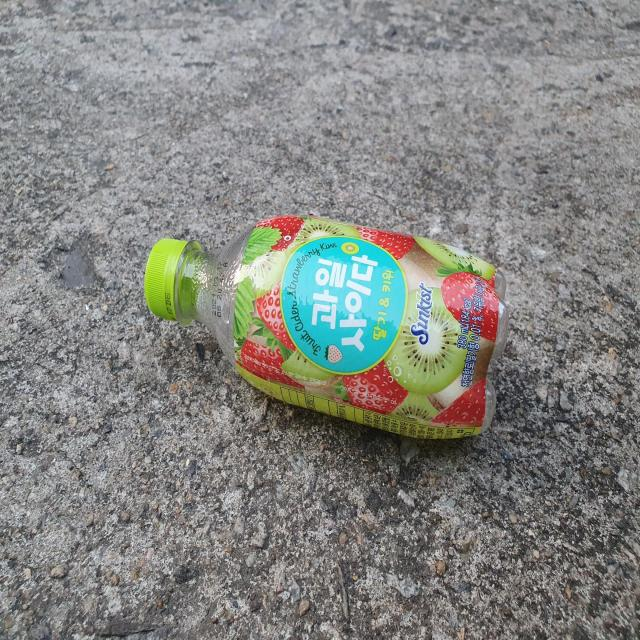plastic: (144, 215, 509, 439)
